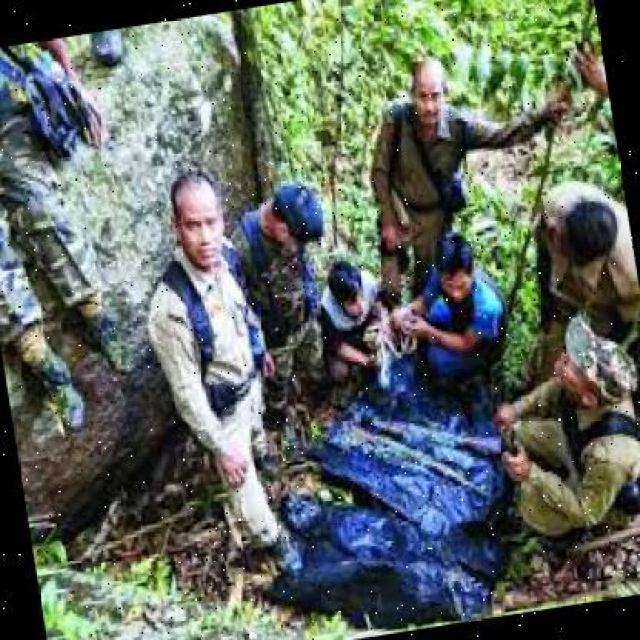Hunter: (146, 137, 268, 552), (474, 317, 640, 511), (376, 34, 472, 238), (258, 156, 337, 398), (527, 170, 640, 312), (402, 237, 504, 368), (311, 252, 384, 383)
